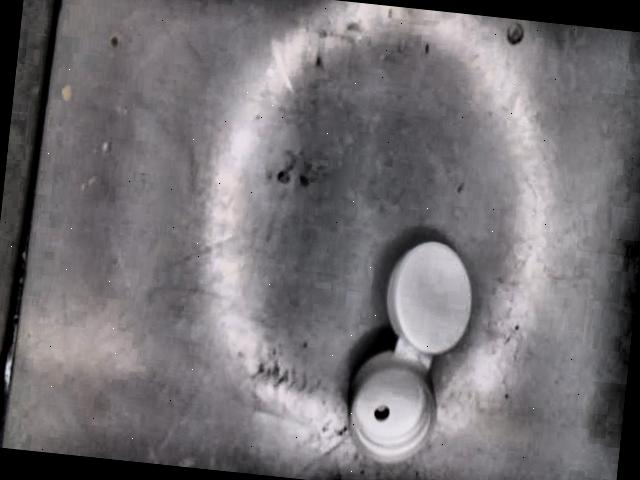Plastic: (350, 240, 475, 462)
